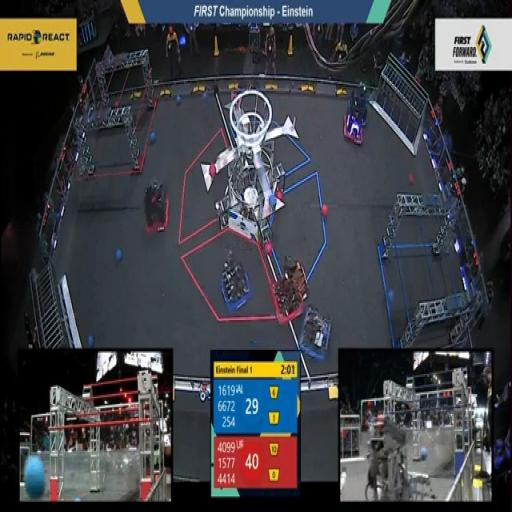robot: (268, 252, 308, 324), (214, 252, 254, 320), (297, 301, 333, 367), (139, 174, 172, 240), (346, 76, 372, 126), (341, 101, 364, 149)
